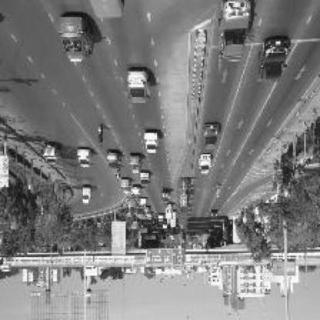other: (200, 113, 228, 157)
